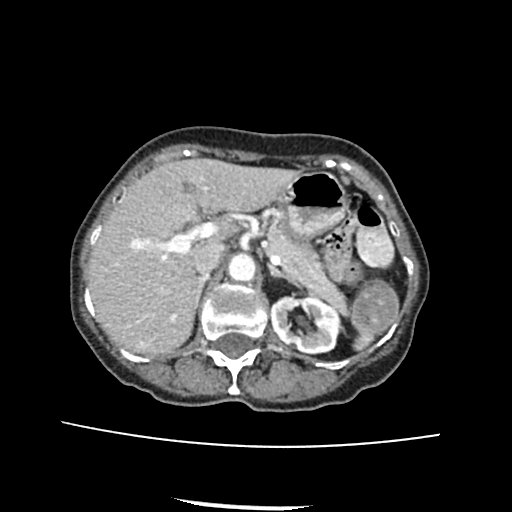aorta: (228, 257, 253, 284)
